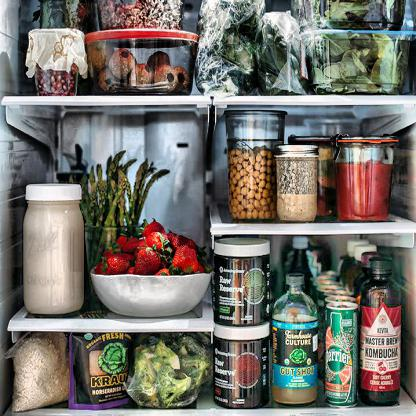broccoli: (138, 342, 200, 404)
strawberries: (170, 246, 198, 272), (132, 249, 162, 272), (139, 232, 168, 252), (100, 254, 129, 274)
